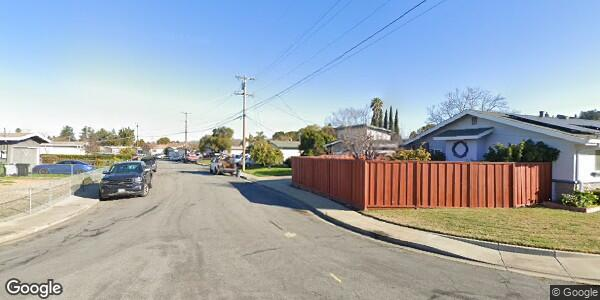Wood_Pole: (232, 73, 255, 174)
